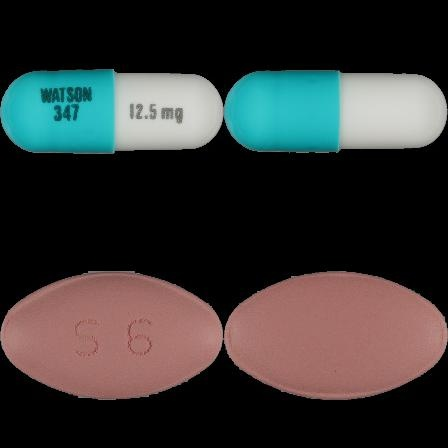68788-9867: (0, 0, 224, 224)
